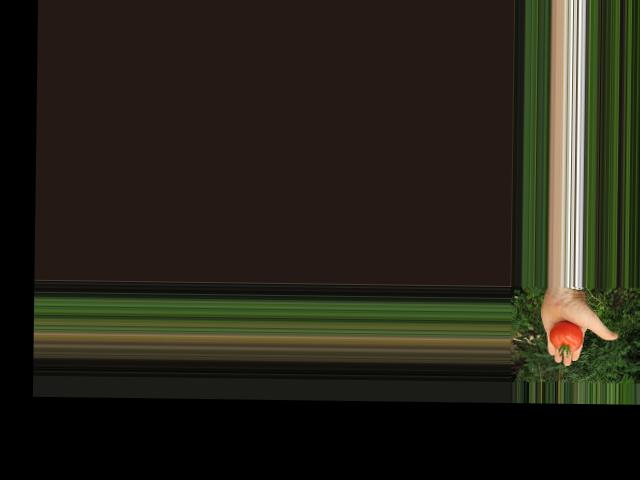tomato: (548, 321, 583, 351)
